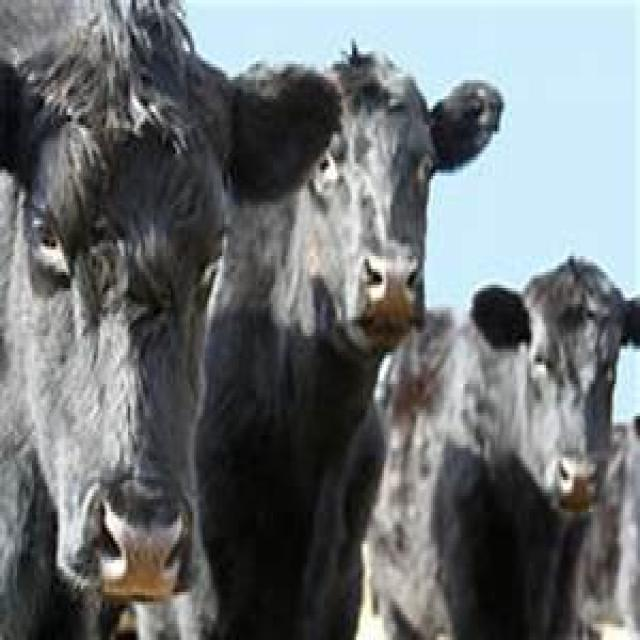cow: (195, 47, 502, 638), (0, 3, 231, 638), (366, 259, 624, 638)
